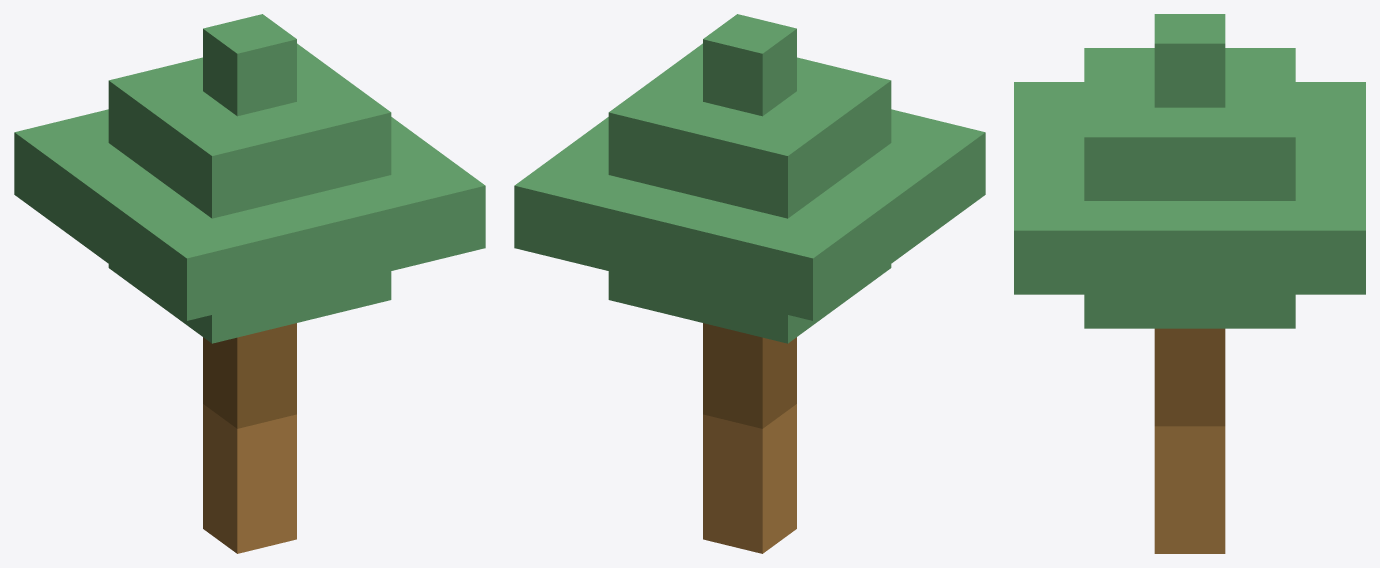
Rendered from small tree 4.glb.
3 renders of one model, left to right at view 1: azimuth 30°, elevation 25°; view 2: azimuth 150°, elevation 25°; view 3: azimuth 270°, elevation 25°, orthographic. The views are drawn at different scales.
Parts seen in each view (by area): view 1: pl0; view 2: pl0; view 3: pl0.
Boxes of the visible parts, left/top/right/bottom form: pl0: left=14, top=14, right=485, bottom=553; pl0: left=514, top=14, right=985, bottom=553; pl0: left=1014, top=14, right=1365, bottom=553.
Bounding box in the file's own units: 0.5 × 0.8 × 0.5.
Materials: 1 (1 with a texture image).
